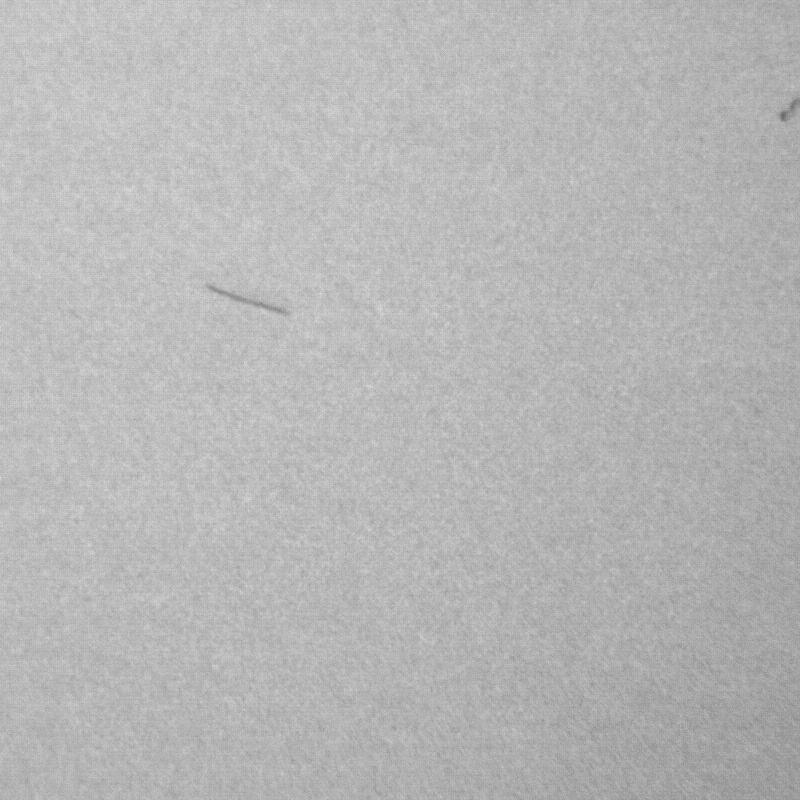defect: (211, 281, 293, 318), (779, 100, 796, 123)
